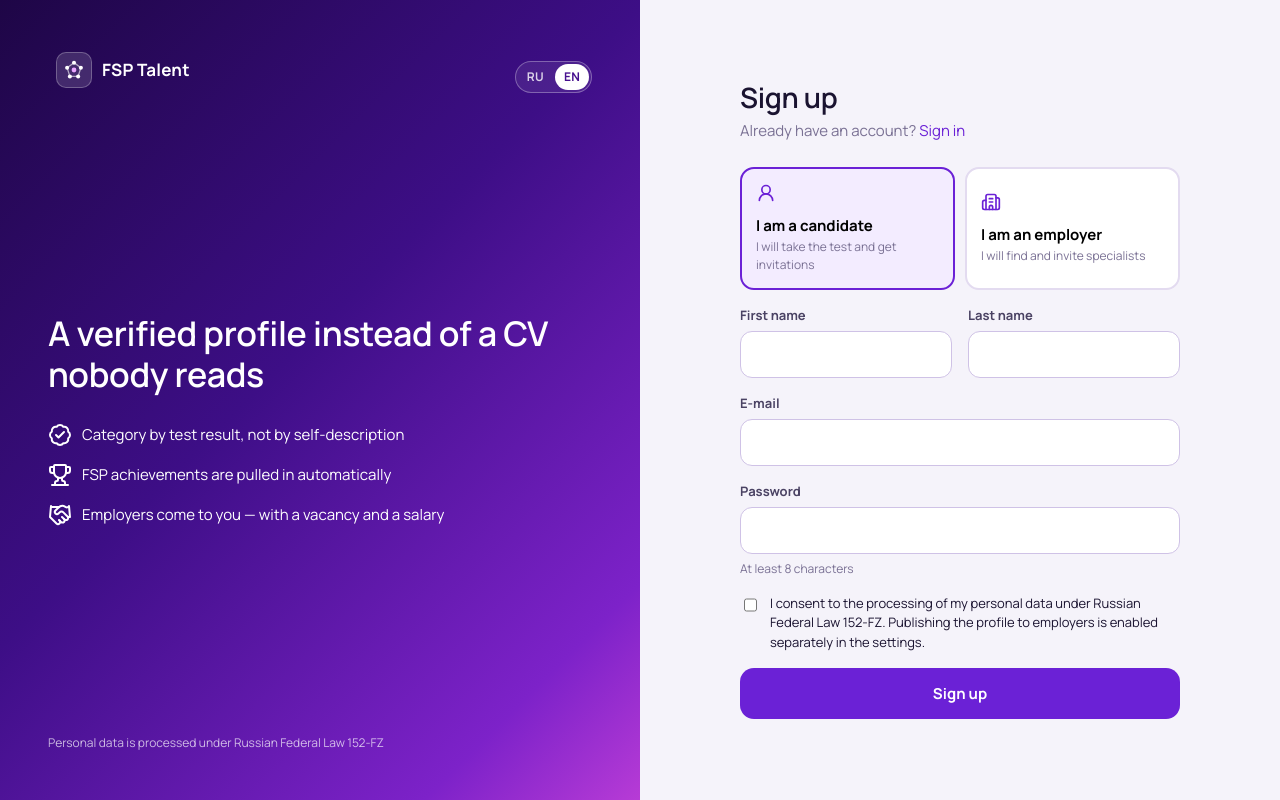
Test case: auth forms › validate consent on registration in the chosen language
Type "Ann" into the field labelled "First name" at (846, 355), box 740,331 -> 952,378
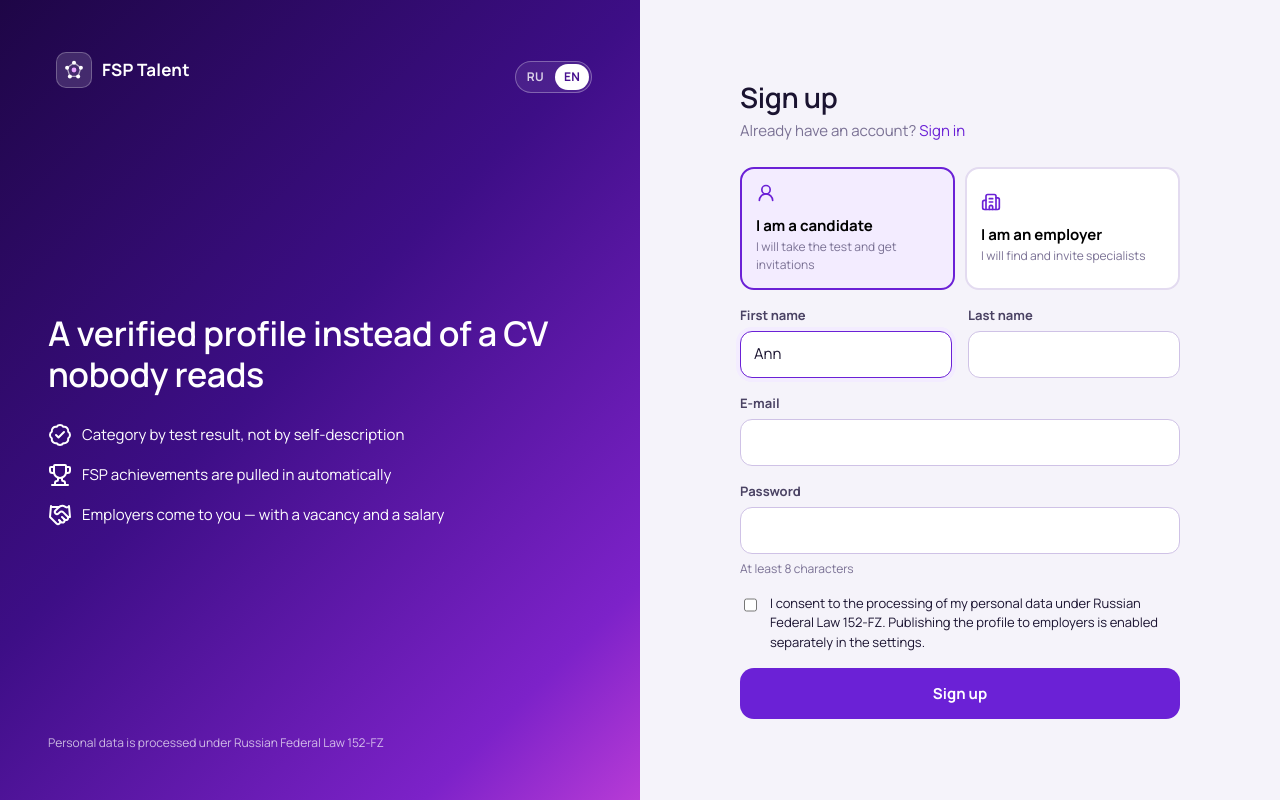
Type "Lee" into the field labelled "Last name" at (1074, 355), box 968,331 -> 1180,378
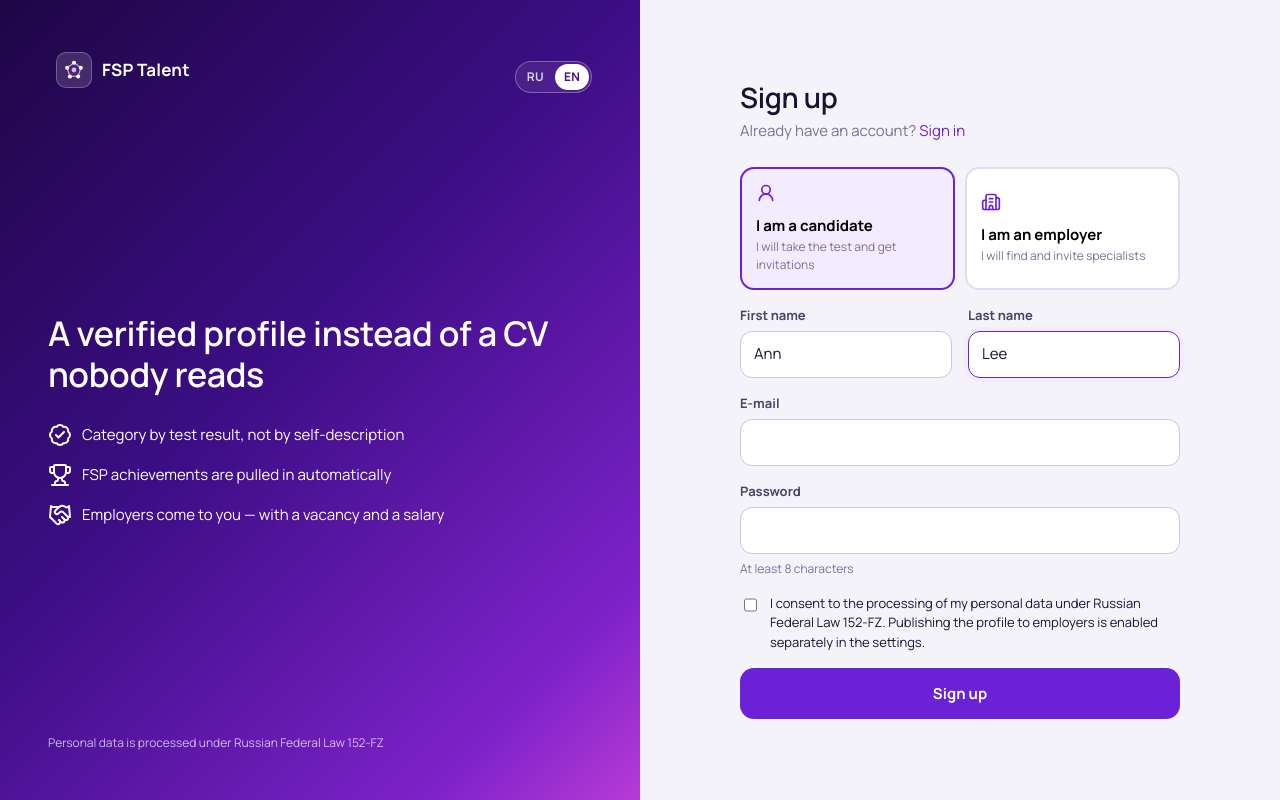
Type "ann@example.com" into the field labelled "E-mail" at (960, 443), box 740,419 -> 1180,466
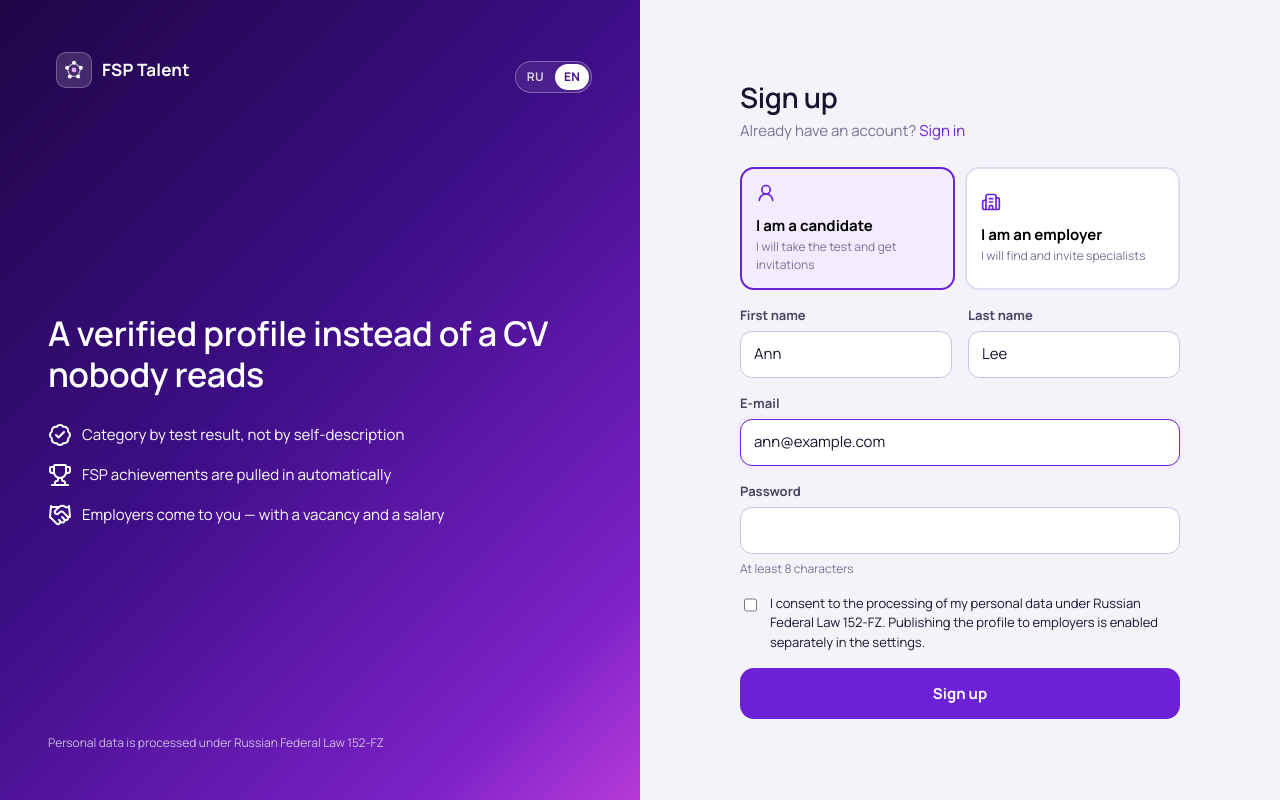
Type "secret123" into the password field labelled "Password" at (960, 531), box 740,507 -> 1180,554
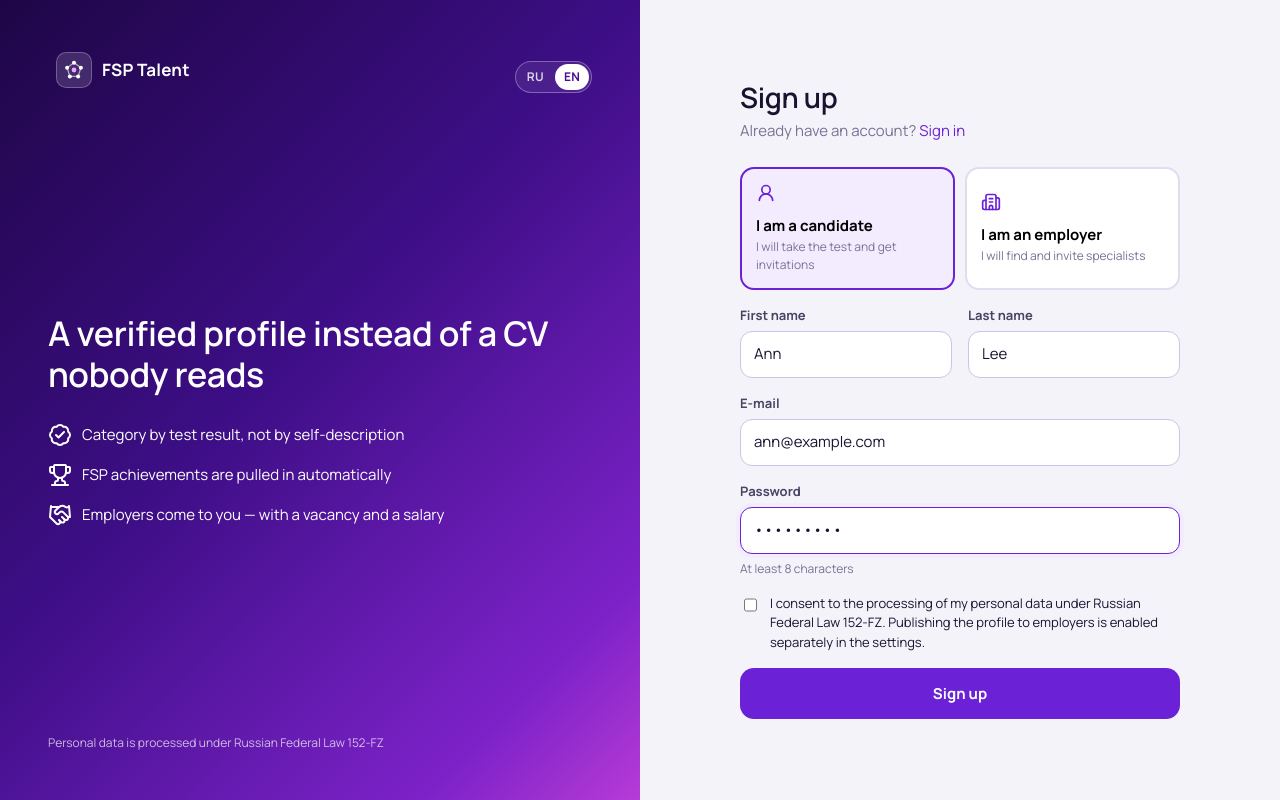
Click the button "Sign up" at (960, 694), box 740,668 -> 1180,719
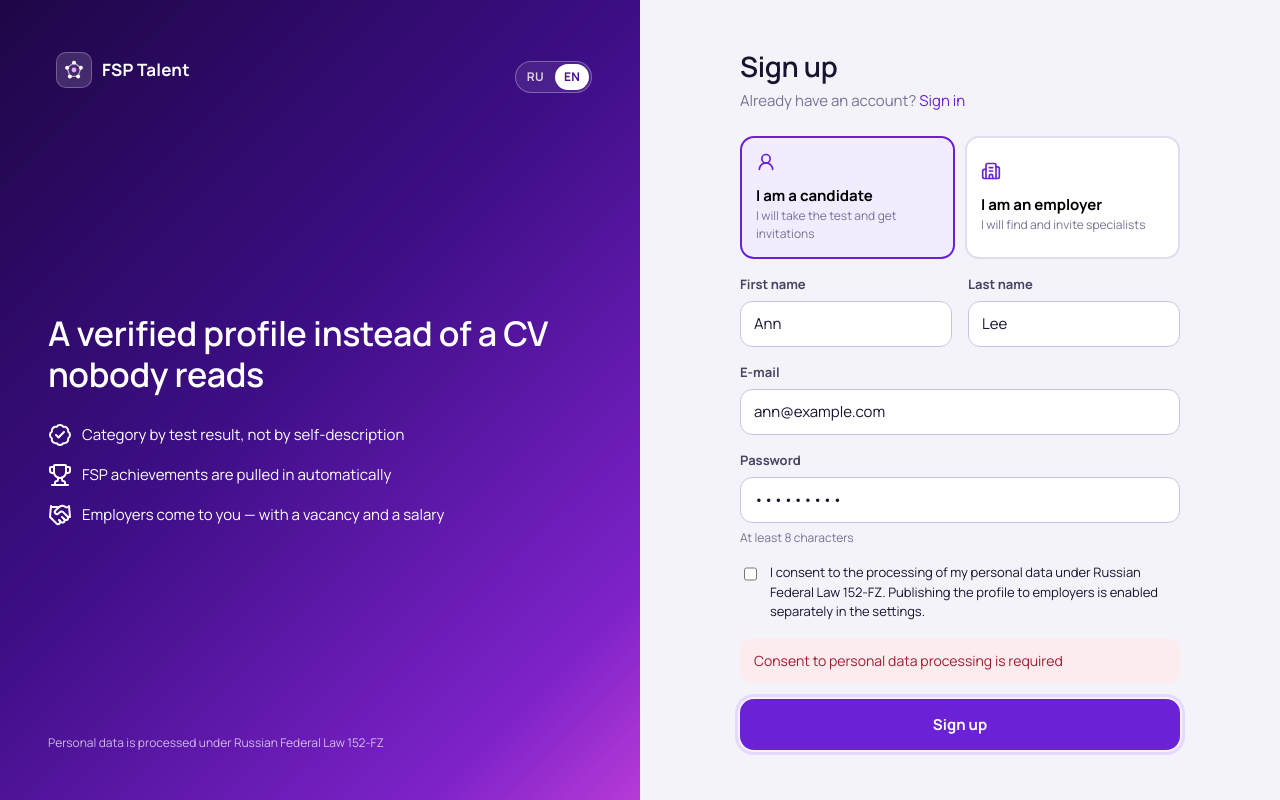
Expected: the text "Consent to personal data processing is required" is shown, 740,638 -> 1180,683
